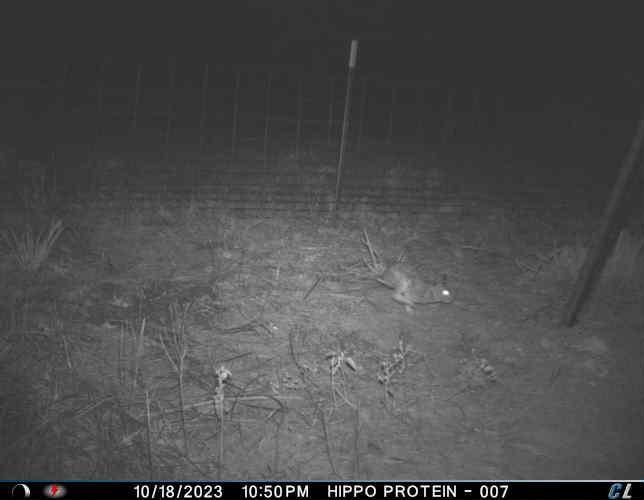Rabbit: (374, 258, 458, 317)
